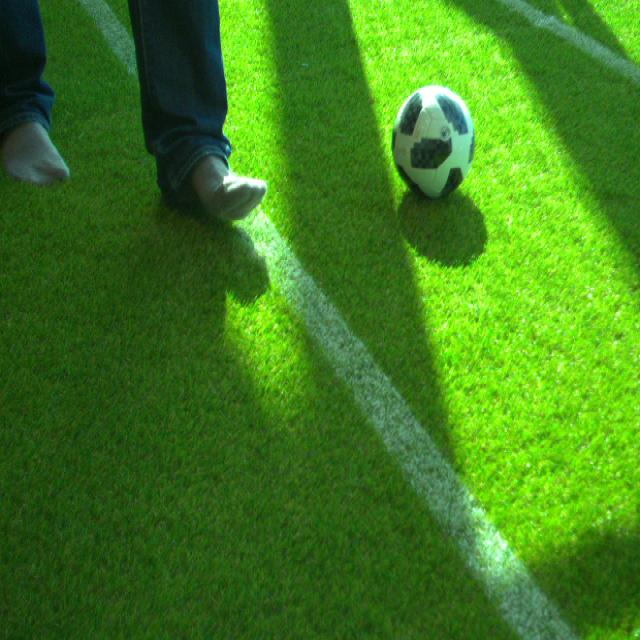ball: (391, 86, 476, 198)
